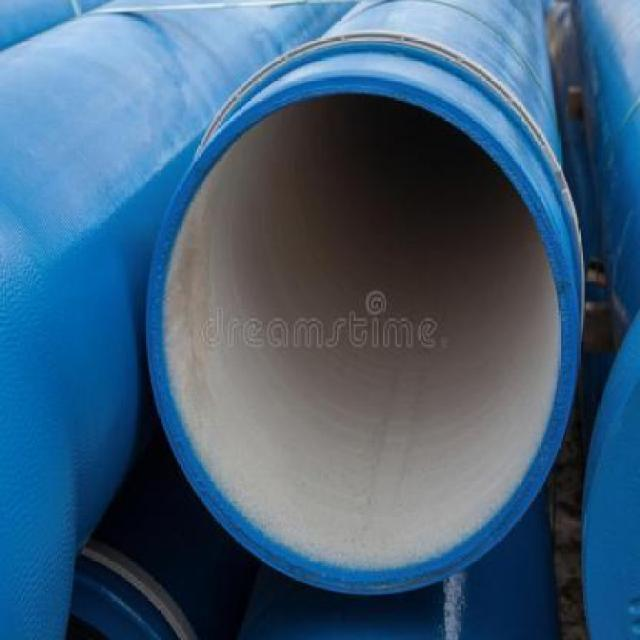pipe: (145, 71, 576, 594)
